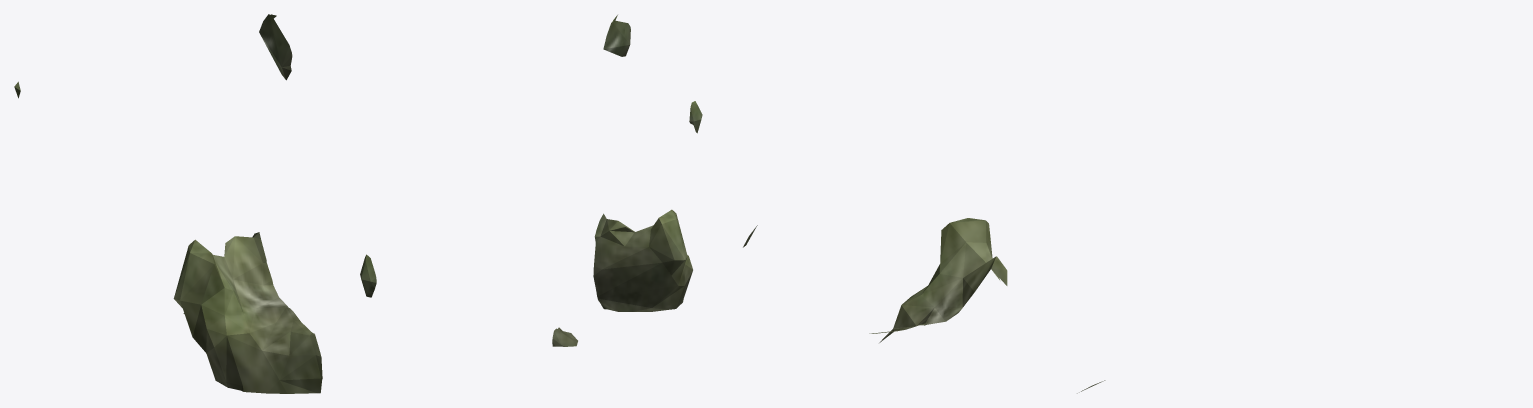
3 renders of one model, left to right at view 1: azimuth 30°, elevation 25°; view 2: azimuth 150°, elevation 25°; view 3: azimuth 270°, elevation 25°, orthographic. The views are drawn at different scales.
Size of the model in its own units: 0.7972 by 2.85 by 5.35.
Materials: 1 (1 with a texture image).
